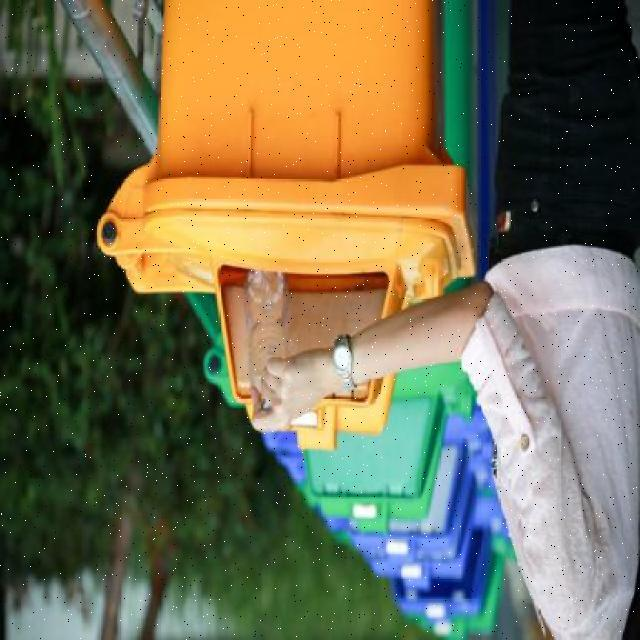garbage container: (94, 2, 490, 328)
